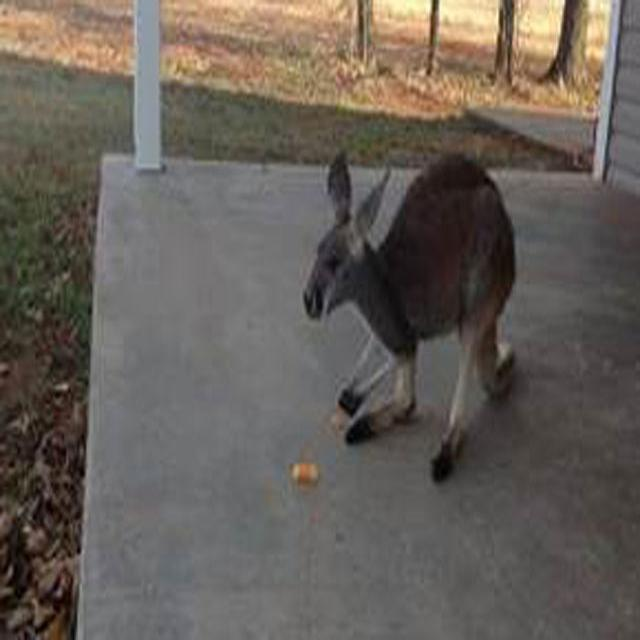kangaroo: (299, 146, 512, 470)
